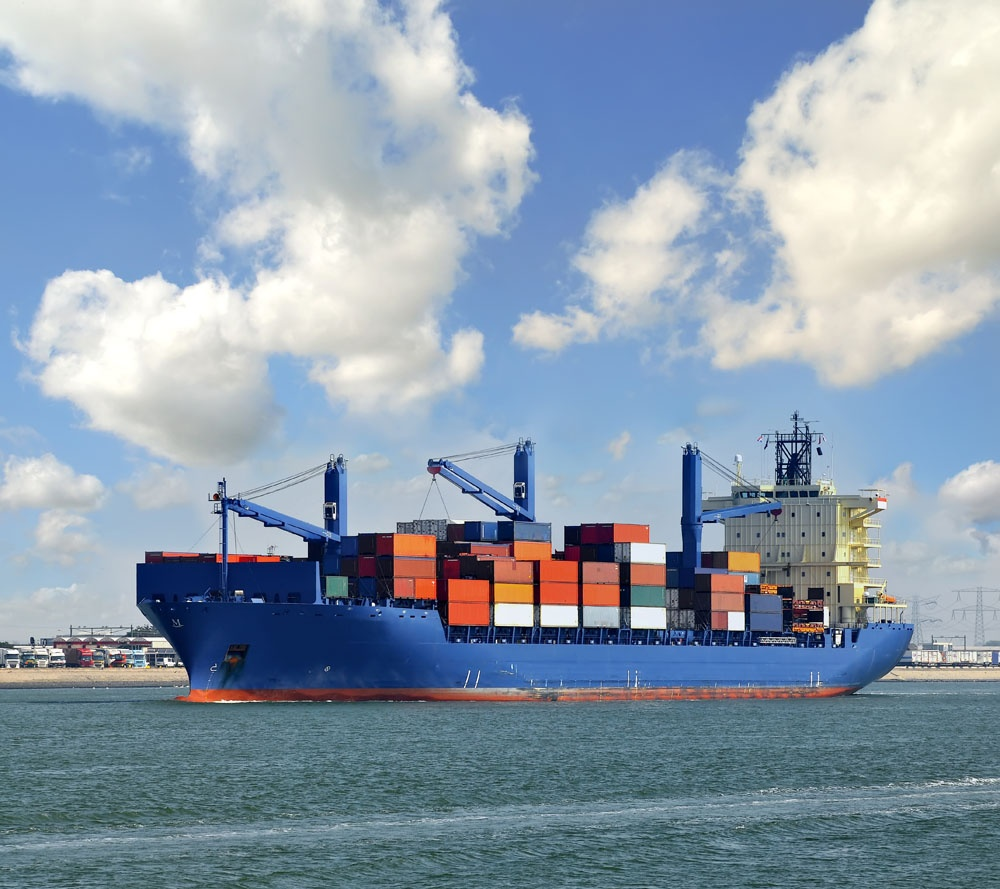Cargoship: (120, 420, 913, 705)
